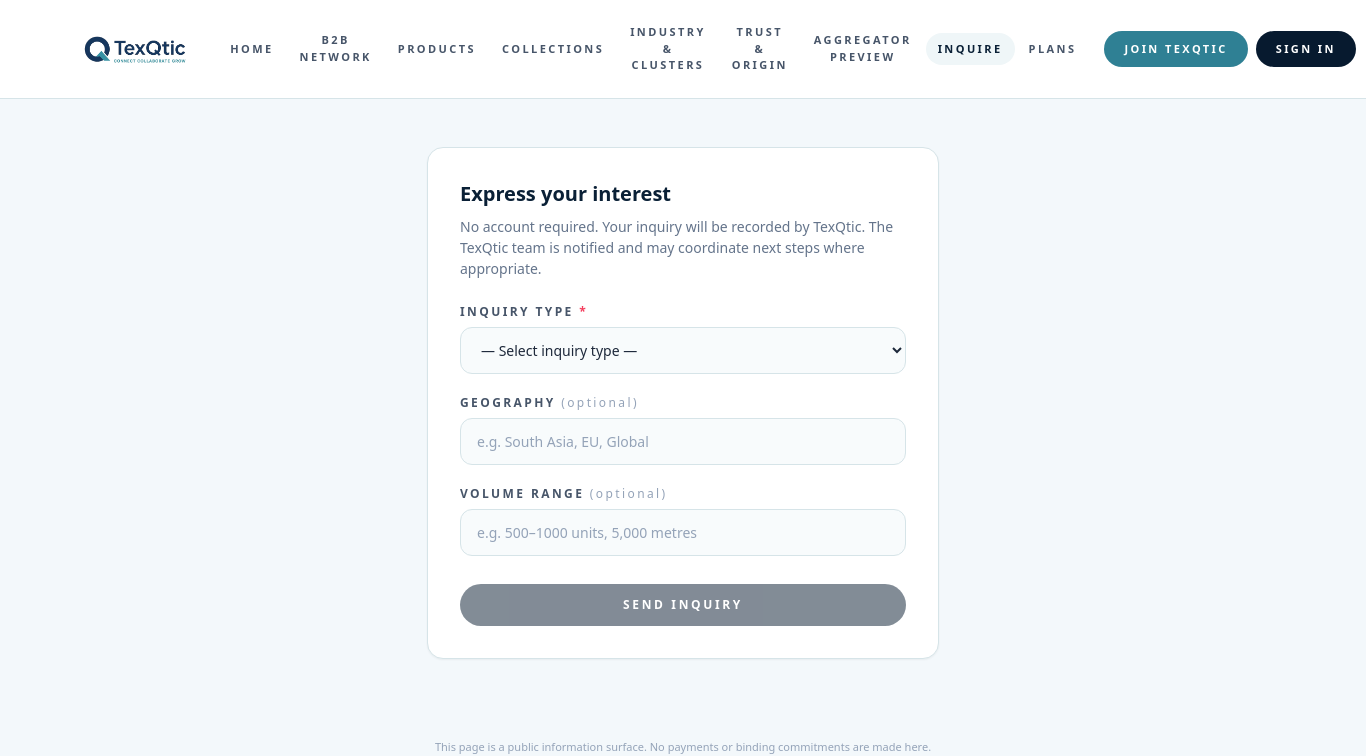
PublicInquiryPage › PII-005 — valid submit → success state
Select "General enquiry" in the dropdown labelled "Inquiry type *" at (683, 350), box x1=460 y1=326 x2=906 y2=374
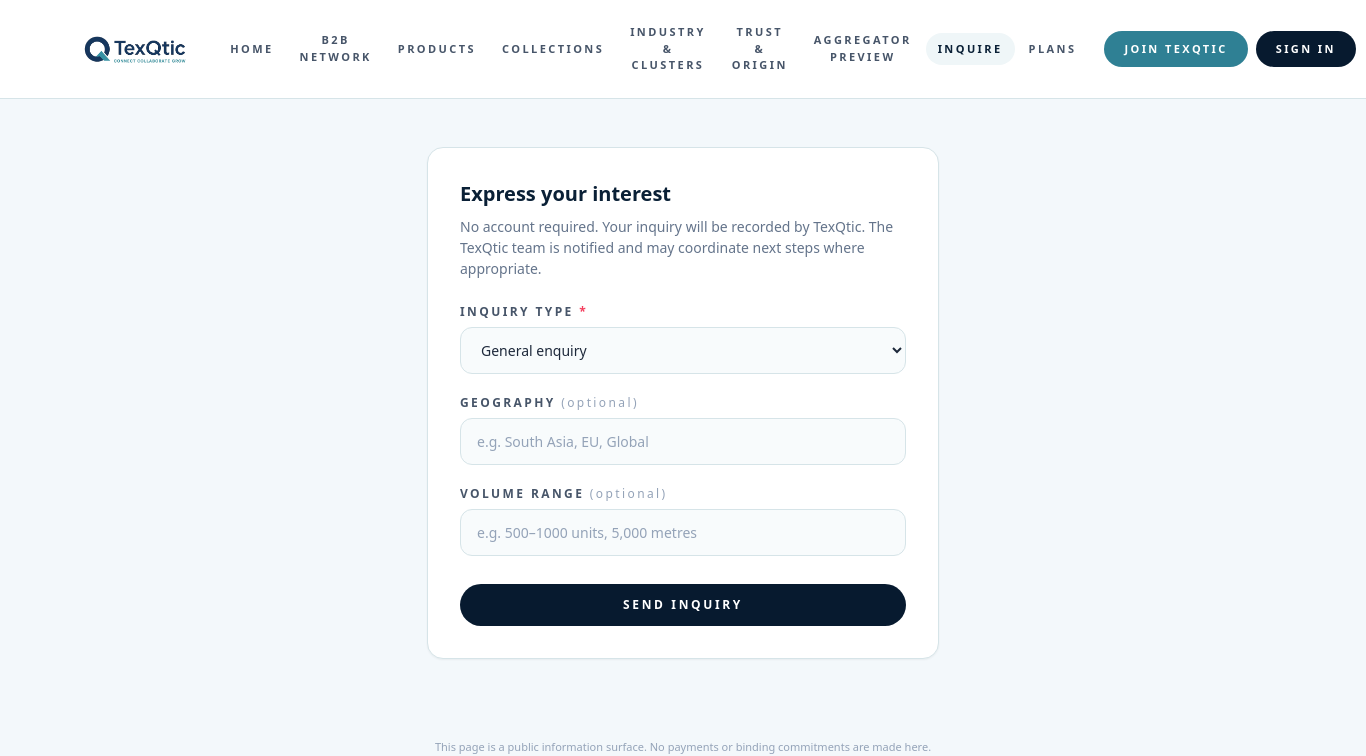
Expected: the button "Send inquiry" is enabled
Click the button "Send inquiry" at (683, 604), box x1=460 y1=584 x2=906 y2=626
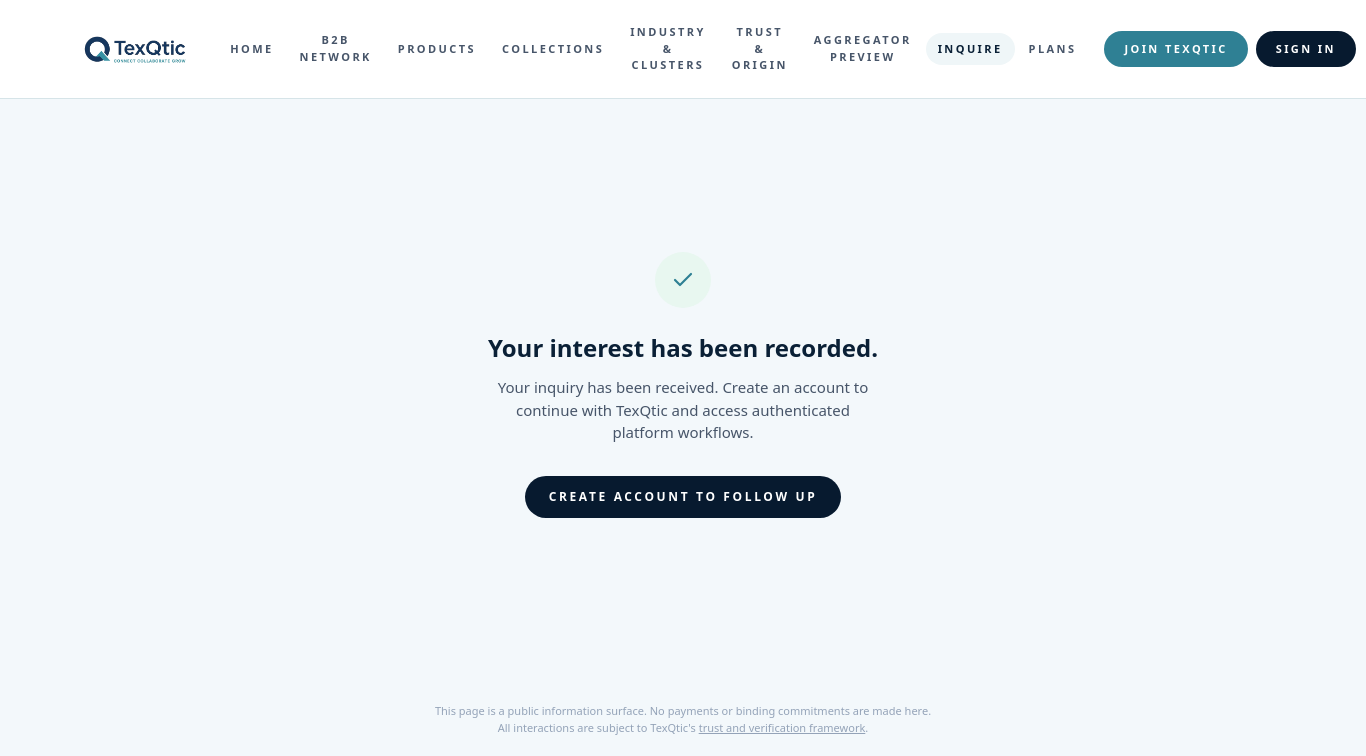
Expected: the heading "Your interest has been recorded." is shown, x1=488 y1=332 x2=878 y2=364
